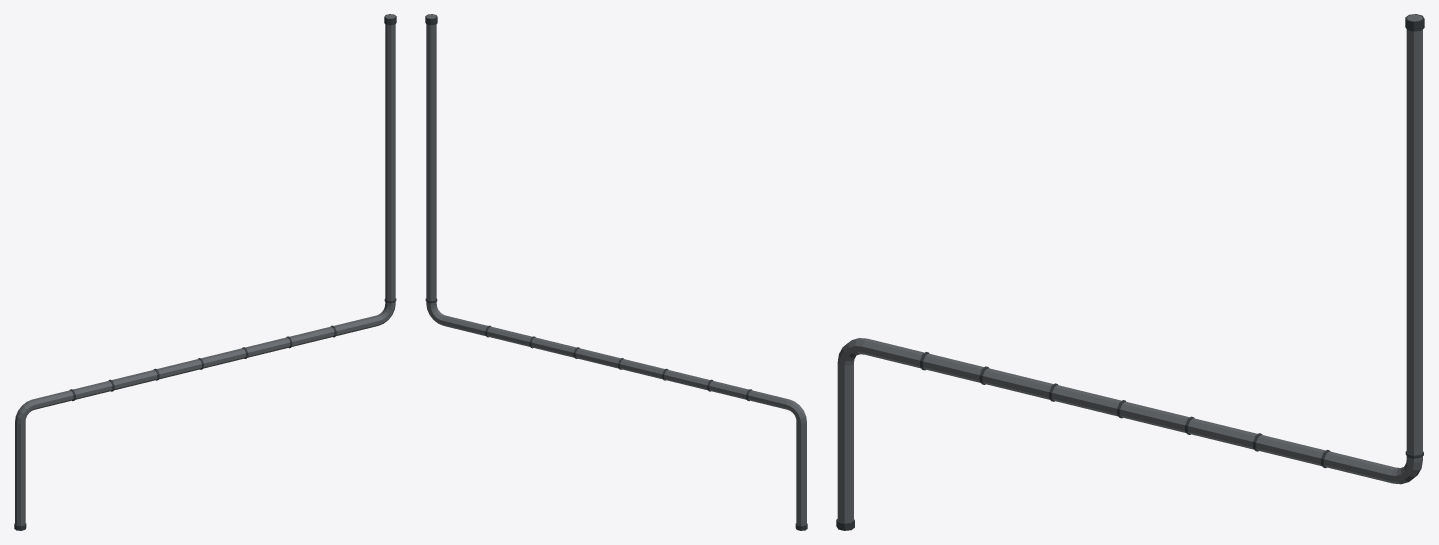
File: WallDecor_04.fbx
The picture shows the model from 3 angles, left to right: view 1: azimuth 30°, elevation 25°; view 2: azimuth 150°, elevation 25°; view 3: azimuth 330°, elevation 25°; orthographic projection. The views are drawn at different scales.
Visible parts, largest first — view 1: WallDecor_04; view 2: WallDecor_04; view 3: WallDecor_04.
Part boxes in pixels (x1=…): WallDecor_04: x1=14, y1=14, x2=396, y2=530; WallDecor_04: x1=425, y1=14, x2=807, y2=530; WallDecor_04: x1=836, y1=14, x2=1424, y2=530.
Bounding box in the file's own units: 944 × 1000 × 25.03.
